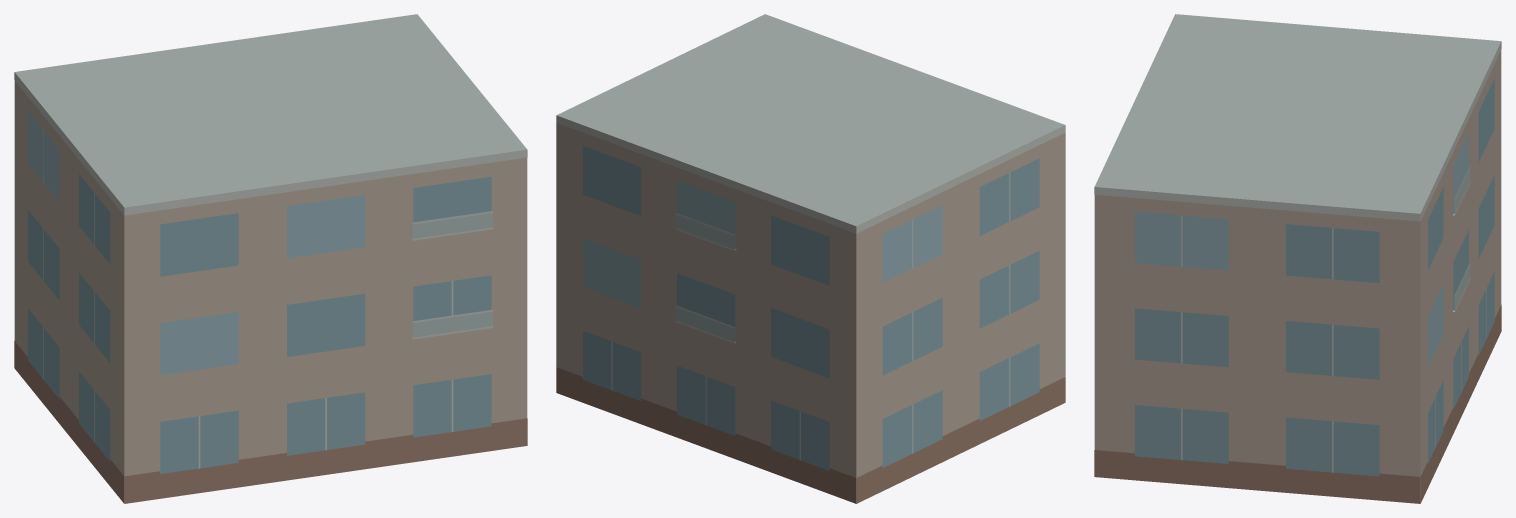
Rendered from survey-upis-32702118.glb.
3 views of the same model, side by side, from view 1: azimuth 30°, elevation 25°; view 2: azimuth 150°, elevation 25°; view 3: azimuth 270°, elevation 25° (orthographic). The views are drawn at different scales.
Visible parts, largest first — view 1: survey-upis-32702118.tmp; view 2: survey-upis-32702118.tmp; view 3: survey-upis-32702118.tmp.
Boxes of the visible parts, box(x1,y1,x2,y2) form: survey-upis-32702118.tmp: box(14, 14, 527, 503); survey-upis-32702118.tmp: box(556, 14, 1065, 503); survey-upis-32702118.tmp: box(1094, 14, 1501, 503).
Size of the model in its own units: 13.53 by 9.15 by 11.65.
